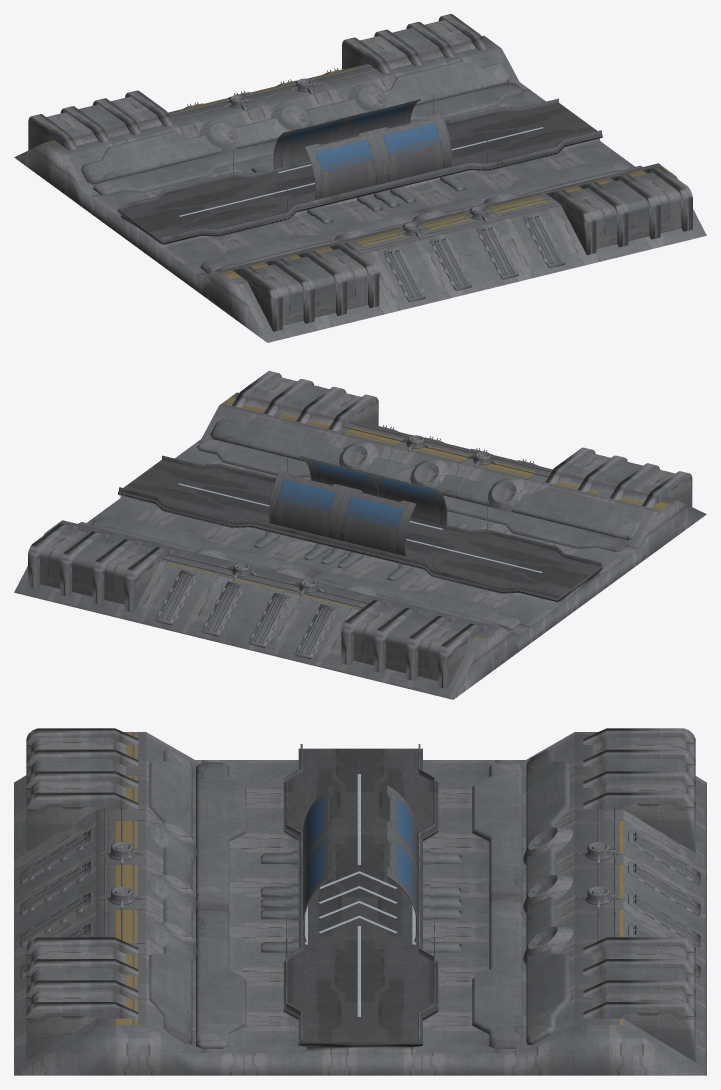
Rendered from CityBlock017.fbx.
3 views of the same model, one above another, from view 1: azimuth 30°, elevation 25°; view 2: azimuth 150°, elevation 25°; view 3: azimuth 270°, elevation 25° (orthographic). The views are drawn at different scales.
Visible parts, largest first — view 1: SMCGBlock57_6744.Shape; view 2: SMCGBlock57_6744.Shape; view 3: SMCGBlock57_6744.Shape.
Part boxes in pixels (box(x1,y1,x2,y2)): SMCGBlock57_6744.Shape: box(14, 14, 706, 342); SMCGBlock57_6744.Shape: box(14, 371, 706, 699); SMCGBlock57_6744.Shape: box(14, 728, 706, 1075).
Bounding box in the file's own units: 728 × 116 × 727.
